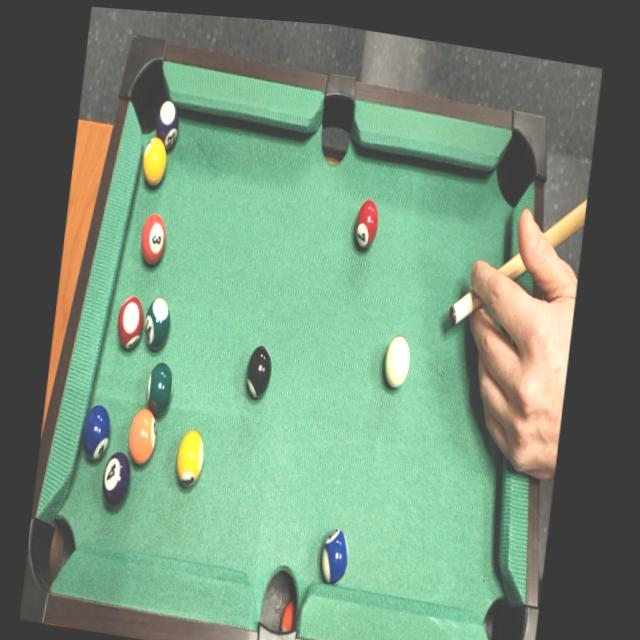cue ball: (381, 330, 413, 392)
other: (76, 394, 118, 469), (98, 446, 136, 521), (123, 399, 161, 472), (315, 525, 352, 592), (140, 355, 178, 420), (113, 289, 148, 357), (174, 422, 207, 489), (140, 294, 175, 357), (150, 96, 186, 156), (243, 340, 275, 405), (136, 207, 168, 271), (137, 133, 171, 191), (351, 192, 383, 250)
